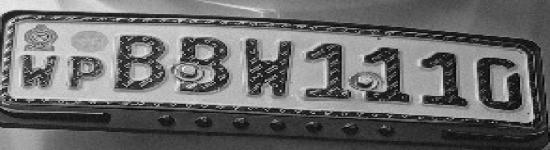0: (469, 52, 525, 114)
1: (355, 42, 415, 106), (416, 45, 472, 111), (300, 40, 356, 104)
B: (176, 34, 236, 99), (111, 31, 171, 95)
P: (66, 54, 108, 95)
W: (239, 33, 298, 103), (18, 53, 63, 90)
